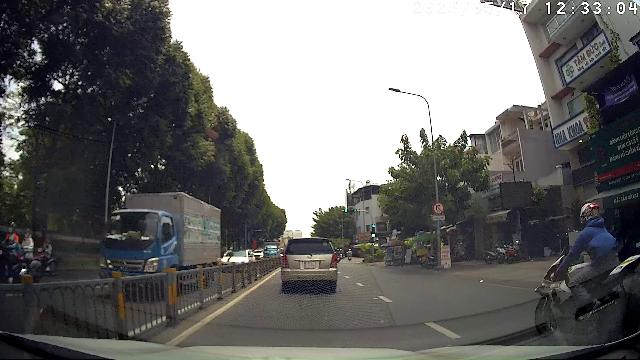103b-cam-oto-re-phai: (432, 201, 444, 214)
